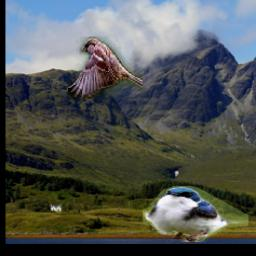Sparrow: (69, 38, 144, 100)
Swallow: (143, 187, 248, 243)
